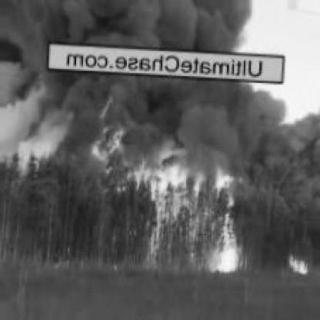Fire: (90, 137, 250, 276)
Smoke: (13, 5, 277, 137)
